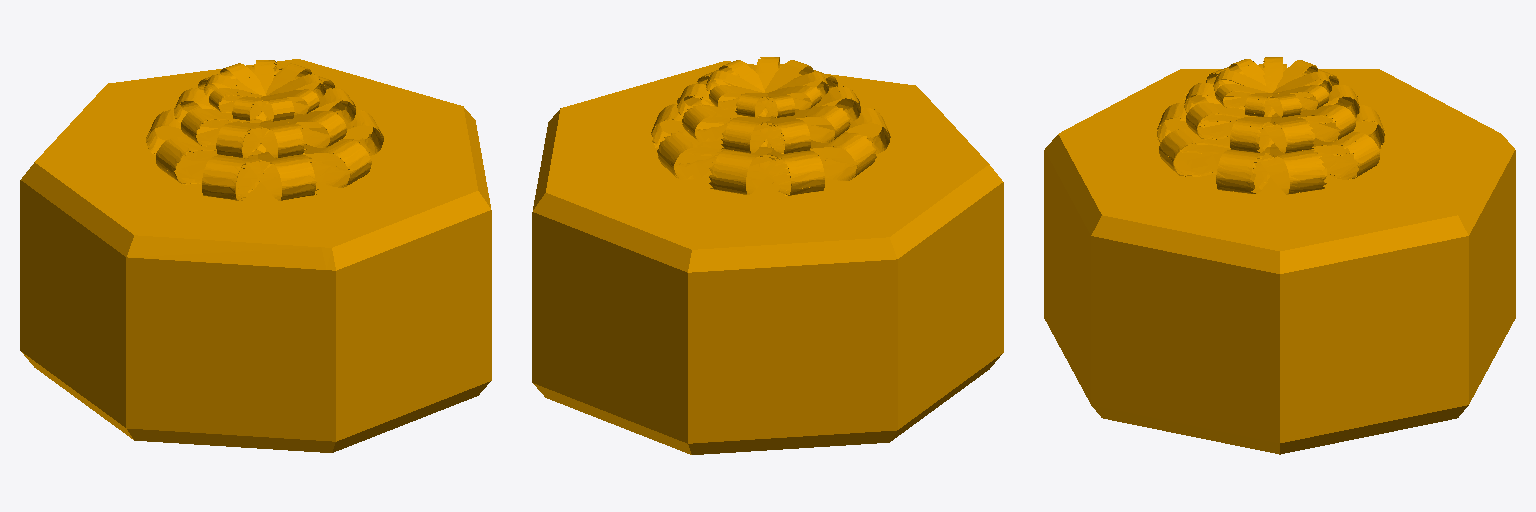
URDF robot description (gift_box):
<robot name="gift_box">
  <link name="gift_box">
    <inertial>
      <origin xyz="0 0 0.0145"/>
      <mass value="0.1" />
      <inertia  ixx="0.0001" ixy="0.0"  ixz="0.0"  iyy="0.0001"  iyz="0.0"  izz="0.0001" />
    </inertial>
    <visual>
      <origin xyz="0 0 0.0145"/>
      <geometry>        
     <mesh filename="gift_box.dae" scale="1 1 1"/>
    </geometry>
    </visual>
    <collision>
      <origin xyz="0 0 0.0145"/>
      <geometry>
        <box size="0.029 0.029 0.029"/>
      </geometry>
    </collision>
  </link>
  <gazebo reference="gift_box">
    <material>Gazebo/Blue</material>
  </gazebo>
</robot>

--- Render facts (derived) ---
3 views of the same robot in one strip: view 1: azimuth 30°, elevation 25°; view 2: azimuth 150°, elevation 25°; view 3: azimuth 270°, elevation 25° (orthographic).
Robot: gift_box — 1 links, 0 joints (none); root link gift_box; default pose: all joints at 0.
Links seen in each view (by area): view 1: gift_box; view 2: gift_box; view 3: gift_box.
Link boxes in pixels (box(x1,y1,x2,y2)): gift_box: box(20, 59, 491, 452); gift_box: box(532, 57, 1003, 454); gift_box: box(1044, 57, 1515, 454).
Size in the robot's own frame: 0.1901 by 0.195 by 0.1272 metres.
Meshes: 1 distinct files referenced, 1 mesh visuals loaded (1 Collada DAE).